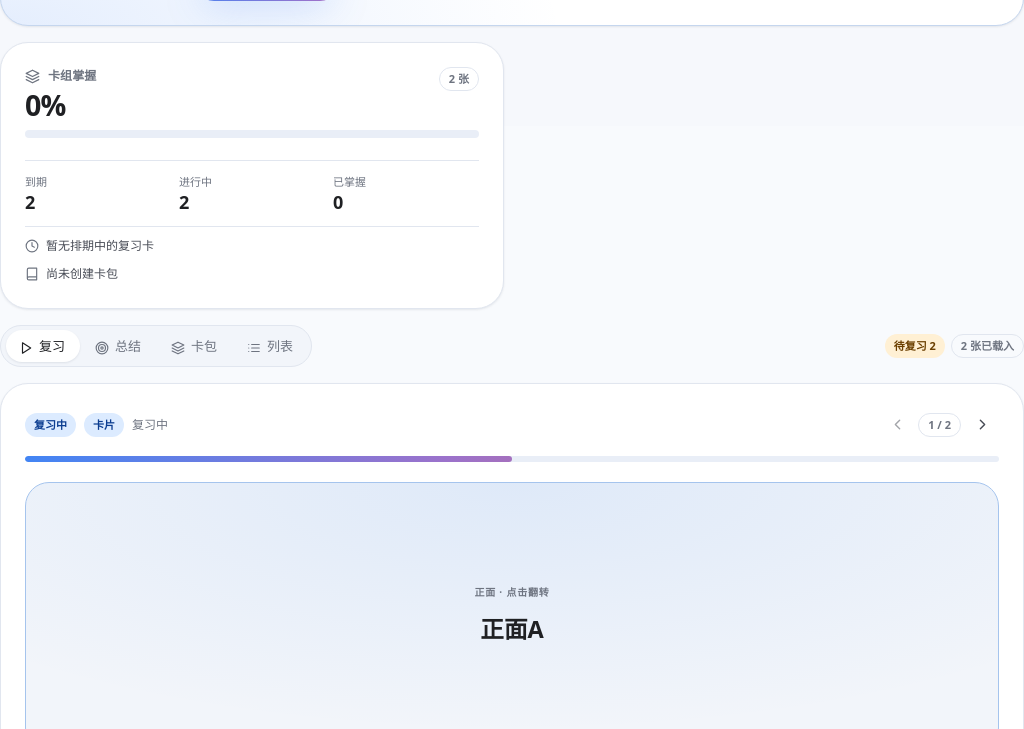
Test: Cards：正确解析后端 {items}、科目下拉来自 API › 加载成功路径：{items} 写入 store 且卡片真的渲染出来（不再是白屏）
(page scrolled)
切到「列表」视图，正反面文本真的渲染（曾经整页白屏 / 只有空态）
Click the tab "列表".
click(270, 346)  # box [233,330,307,362]
(page scrolled)
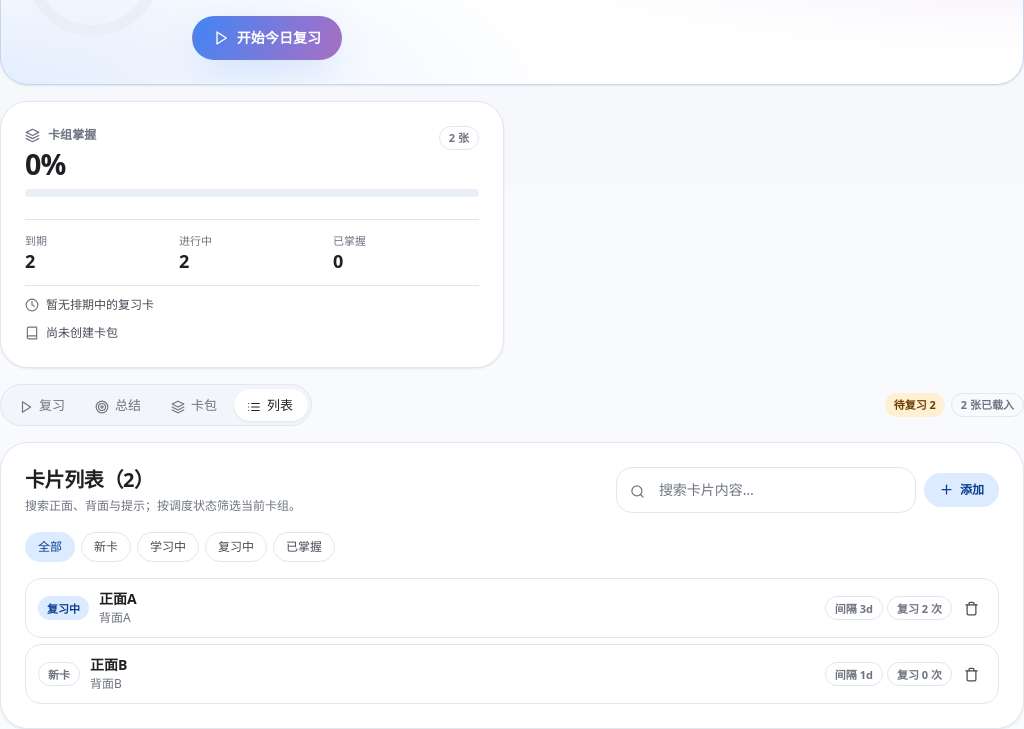
Expected: the text "正面A" is shown, [99,589,137,608]
Expected: the text "正面B" is shown, [90,655,127,674]
